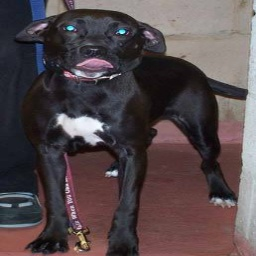dog: (16, 8, 245, 253)
